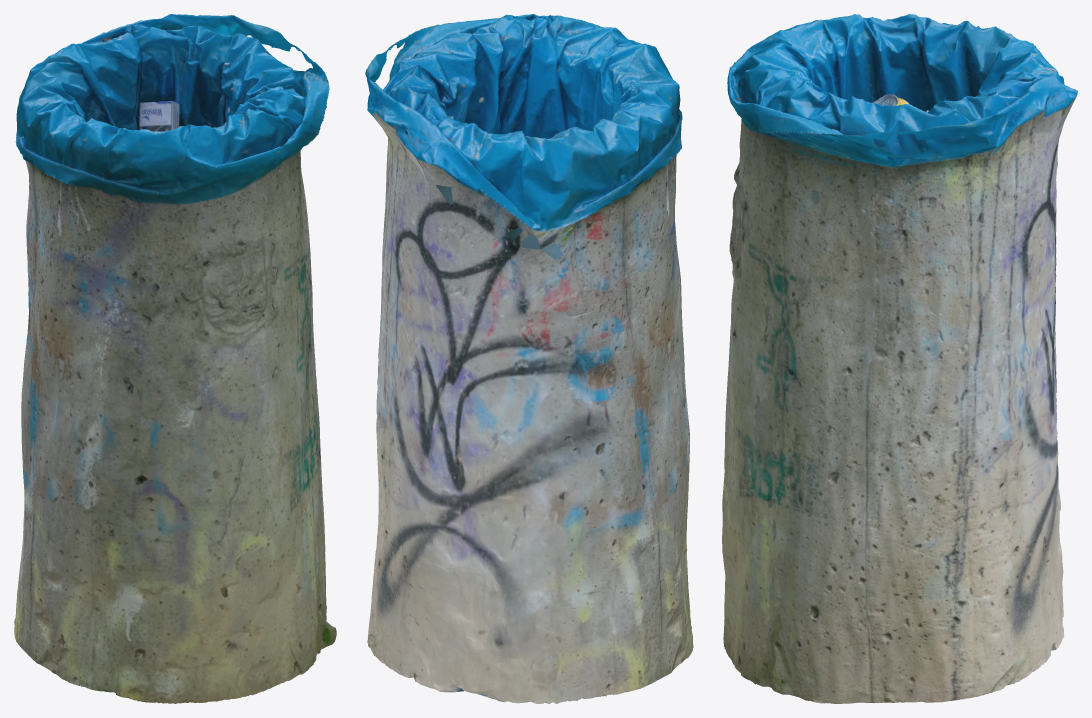
Rendered from sf-concrete-trash-bin-8166f6.glb.
3 views of the same model, side by side, from view 1: azimuth 30°, elevation 25°; view 2: azimuth 150°, elevation 25°; view 3: azimuth 270°, elevation 25° (orthographic). The views are drawn at different scales.
Parts seen in each view (by area): view 1: Object_2; view 2: Object_2; view 3: Object_2.
Boxes of the visible parts, x1,y1,x2,y2 form: Object_2: (14,14,336,703); Object_2: (365,14,693,703); Object_2: (722,14,1077,703).
Size of the model in its own units: 0.5233 by 1.04 by 0.569.
1 material, 1 textured.
